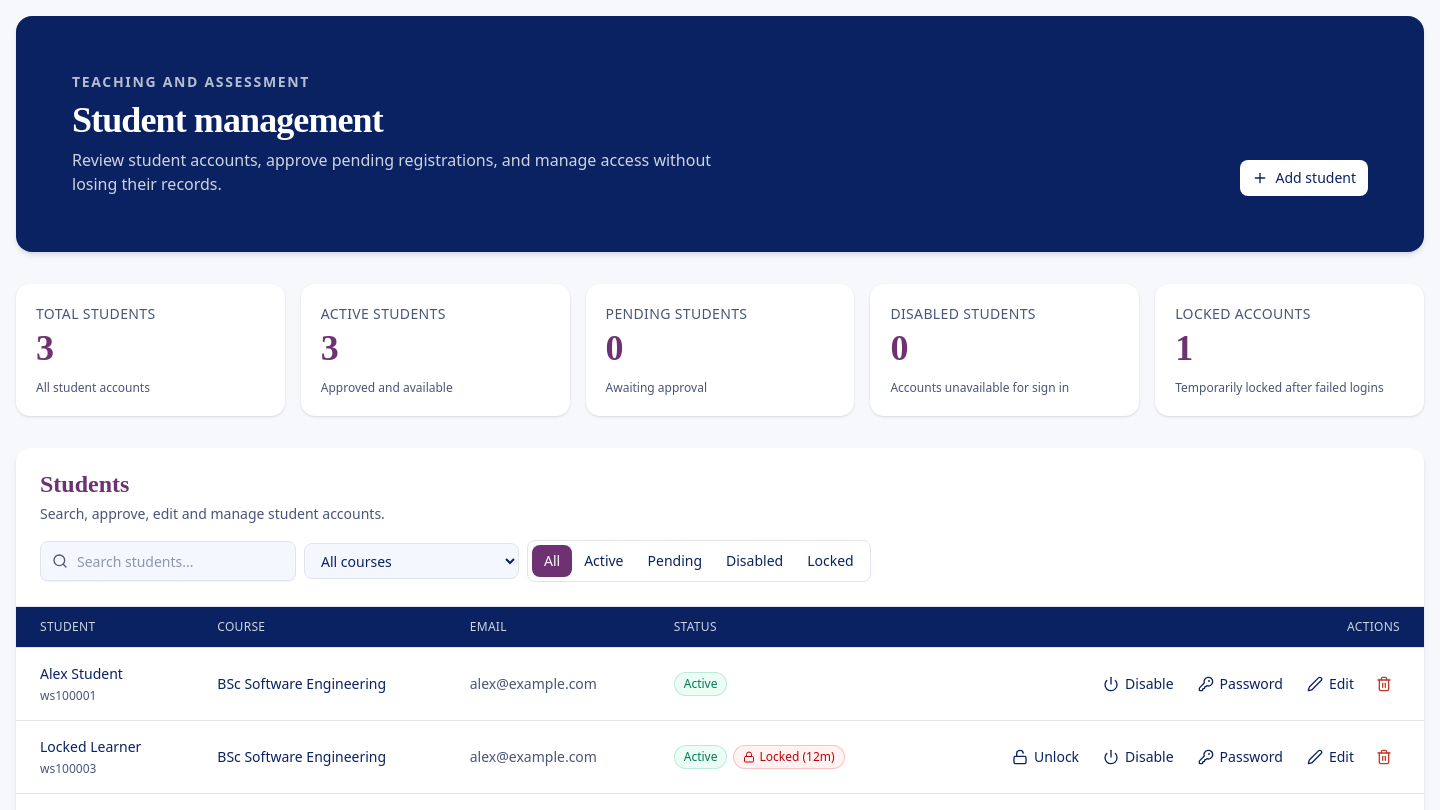
Test: StudentsPage › shows locked badge, filters by locked status, and unlocks a locked student
Check: the text "Locked Learner" is shown, box x1=40 y1=737 x2=141 y2=756
Check: the text "Locked (12m)" is shown, box x1=734 y1=745 x2=845 y2=769
Click the button "locked" at coordinates (830, 561), box x1=795 y1=545 x2=866 y2=577
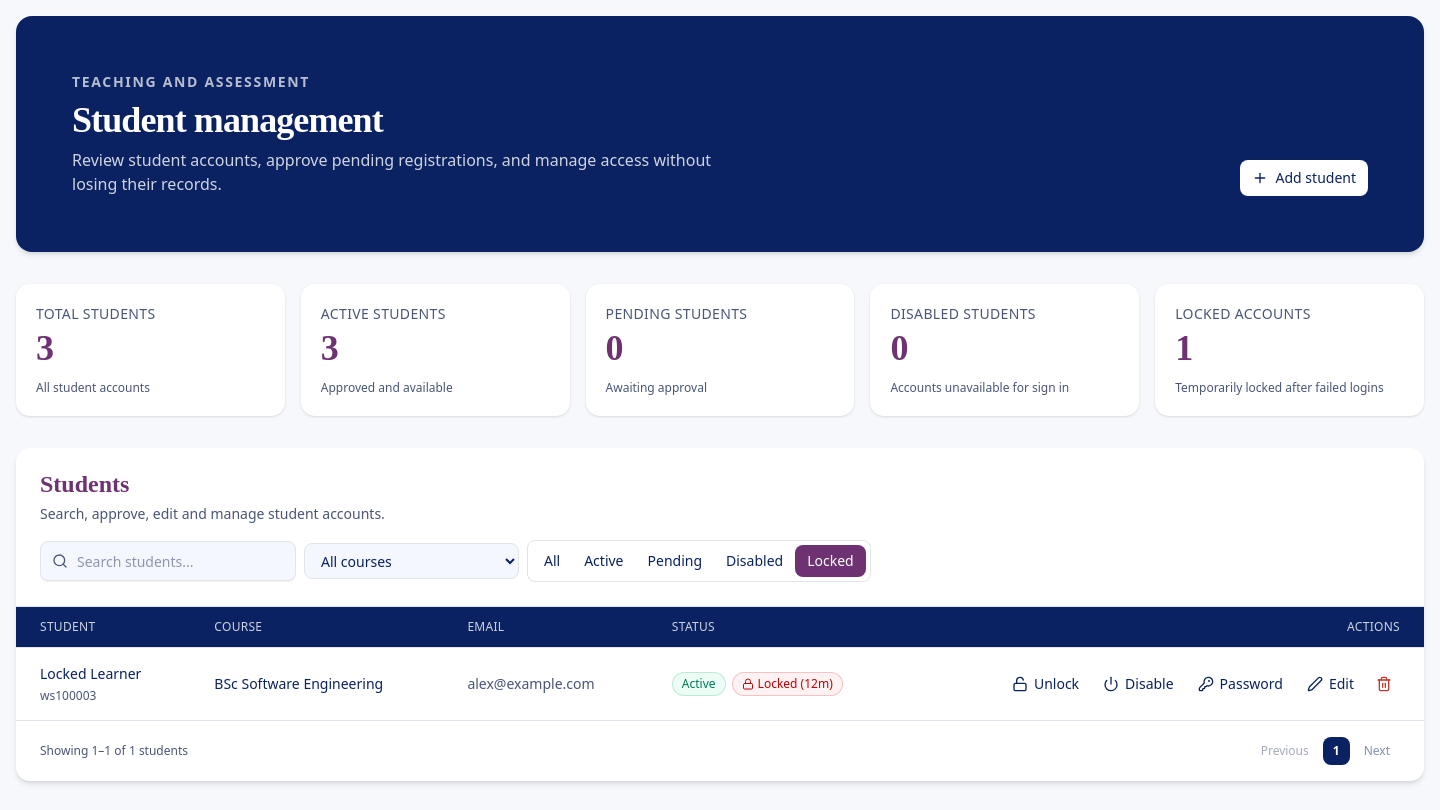
Check: the text "Locked Learner" is shown, box x1=40 y1=664 x2=141 y2=683
Check: the text "Alex Student" is gone
Click the button with aria-label "Unlock ws100003" at coordinates (1046, 684), box x1=1002 y1=668 x2=1089 y2=700
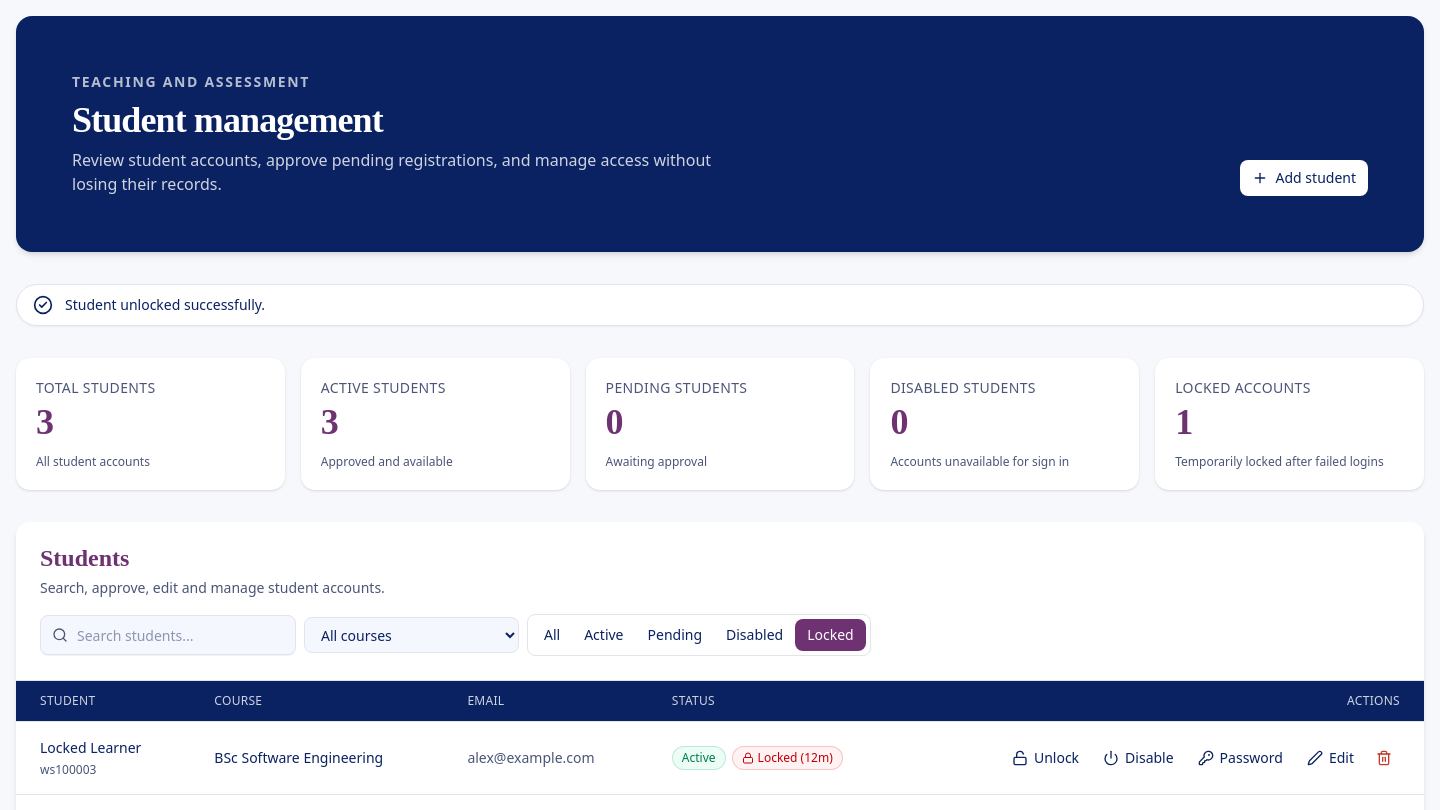
Check: the text "Student unlocked successfully." is shown, box x1=65 y1=295 x2=265 y2=315
